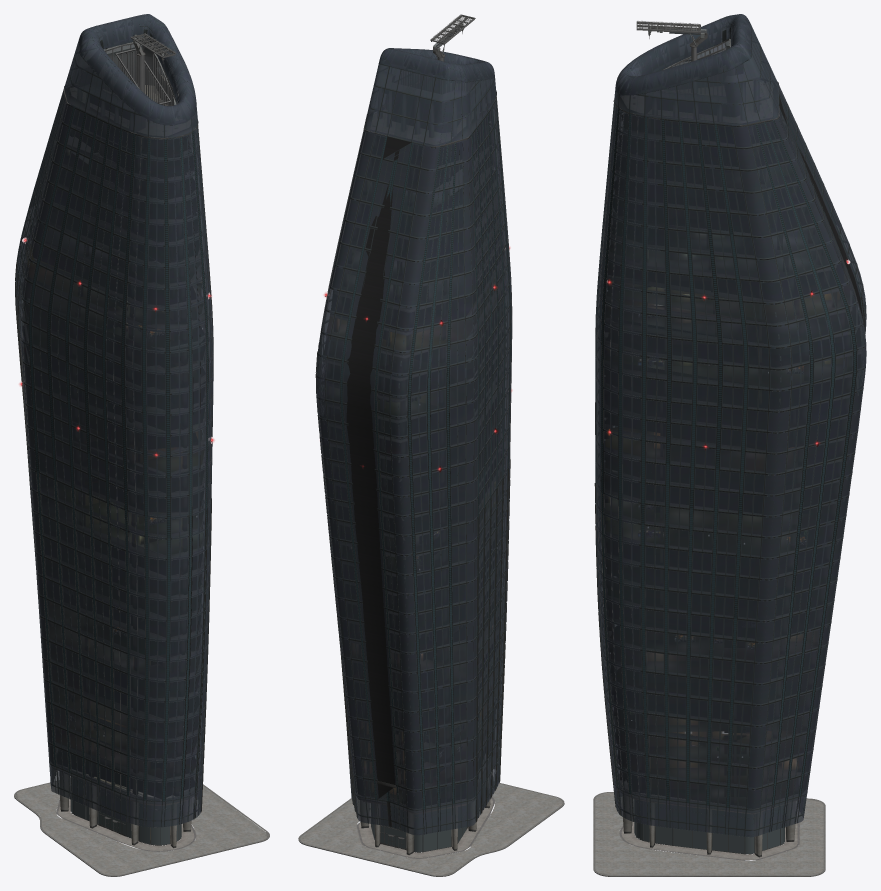
The model's file is london.glb.
The picture shows the model from 3 angles, left to right: view 1: azimuth 30°, elevation 25°; view 2: azimuth 150°, elevation 25°; view 3: azimuth 270°, elevation 25°; orthographic projection. The views are drawn at different scales.
Visible parts, largest first — view 1: Glass_Generic_Glass_Generic_0, Building_Facade_Building_Facade_0, Interior_Top_Interior_Top_0, Glass_Generic_More_Opaque_Glass_Generic_More_Opaque_0, Sidewalk_02_Sidewalk_02_0, Top_Piece_Top_Piece_0, Glass_Lobby_Glass_Lobby_0, Sidewalk_01_Sidewalk_01_0, Concrete_Pillar_Concrete_Pillar_0, Building_Maintenance_Unit_Building_Maintenance_Unit_0; view 2: Building_Facade_Building_Facade_0, Glass_Generic_Glass_Generic_0, Interior_Top_Interior_Top_0, Glass_Generic_More_Opaque_Glass_Generic_More_Opaque_0, Sidewalk_02_Sidewalk_02_0, Top_Piece_Top_Piece_0, Sidewalk_01_Sidewalk_01_0, Glass_Lobby_Glass_Lobby_0, Concrete_Pillar_Concrete_Pillar_0, Building_Maintenance_Unit_Building_Maintenance_Unit_0; view 3: Glass_Generic_Glass_Generic_0, Building_Facade_Building_Facade_0, Interior_Top_Interior_Top_0, Glass_Generic_More_Opaque_Glass_Generic_More_Opaque_0, Sidewalk_02_Sidewalk_02_0, Top_Piece_Top_Piece_0, Glass_Lobby_Glass_Lobby_0, Sidewalk_01_Sidewalk_01_0, Concrete_Pillar_Concrete_Pillar_0, Building_Maintenance_Unit_Building_Maintenance_Unit_0, Furniture_Furniture_0.
Boxes of the visible parts, x1,y1,x2,y2 form: Glass_Generic_Glass_Generic_0: (15, 89, 213, 827); Building_Facade_Building_Facade_0: (15, 14, 213, 845); Interior_Top_Interior_Top_0: (22, 110, 205, 798); Glass_Generic_More_Opaque_Glass_Generic_More_Opaque_0: (64, 14, 197, 137); Sidewalk_02_Sidewalk_02_0: (17, 779, 266, 875); Top_Piece_Top_Piece_0: (71, 42, 195, 135); Glass_Lobby_Glass_Lobby_0: (71, 777, 181, 844); Sidewalk_01_Sidewalk_01_0: (14, 780, 269, 876); Concrete_Pillar_Concrete_Pillar_0: (59, 772, 191, 848); Building_Maintenance_Unit_Building_Maintenance_Unit_0: (130, 33, 176, 93); Building_Facade_Building_Facade_0: (315, 48, 512, 852); Glass_Generic_Glass_Generic_0: (316, 99, 511, 835); Interior_Top_Interior_Top_0: (323, 113, 506, 805); Glass_Generic_More_Opaque_Glass_Generic_More_Opaque_0: (364, 48, 496, 147); Sidewalk_02_Sidewalk_02_0: (300, 783, 562, 875); Top_Piece_Top_Piece_0: (371, 71, 494, 144); Sidewalk_01_Sidewalk_01_0: (298, 783, 564, 876); Glass_Lobby_Glass_Lobby_0: (371, 791, 480, 851); Concrete_Pillar_Concrete_Pillar_0: (360, 775, 490, 855); Building_Maintenance_Unit_Building_Maintenance_Unit_0: (430, 14, 475, 61); Glass_Generic_Glass_Generic_0: (595, 86, 866, 837); Building_Facade_Building_Facade_0: (594, 14, 866, 854); Interior_Top_Interior_Top_0: (600, 113, 860, 806); Glass_Generic_More_Opaque_Glass_Generic_More_Opaque_0: (614, 14, 779, 126); Sidewalk_02_Sidewalk_02_0: (595, 792, 823, 875); Top_Piece_Top_Piece_0: (622, 38, 772, 122); Glass_Lobby_Glass_Lobby_0: (634, 800, 784, 853); Sidewalk_01_Sidewalk_01_0: (593, 792, 825, 876); Concrete_Pillar_Concrete_Pillar_0: (623, 795, 795, 857); Building_Maintenance_Unit_Building_Maintenance_Unit_0: (636, 21, 707, 92); Furniture_Furniture_0: (613, 314, 806, 757).
Size of what is drawn, in the model's own units: 37.24 by 167 by 50.91.
Materials: 19 (17 with a texture image).
